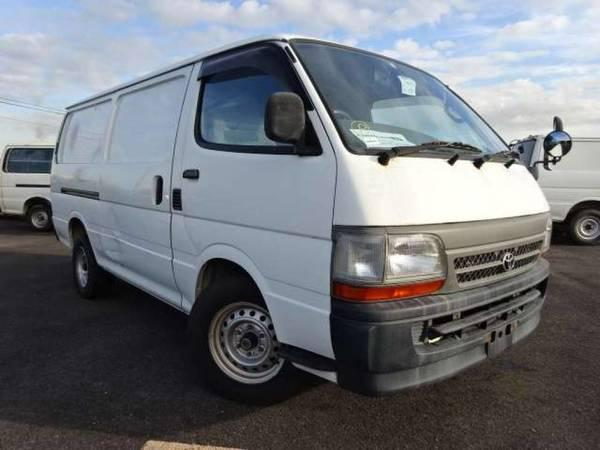van: (49, 34, 558, 406)
